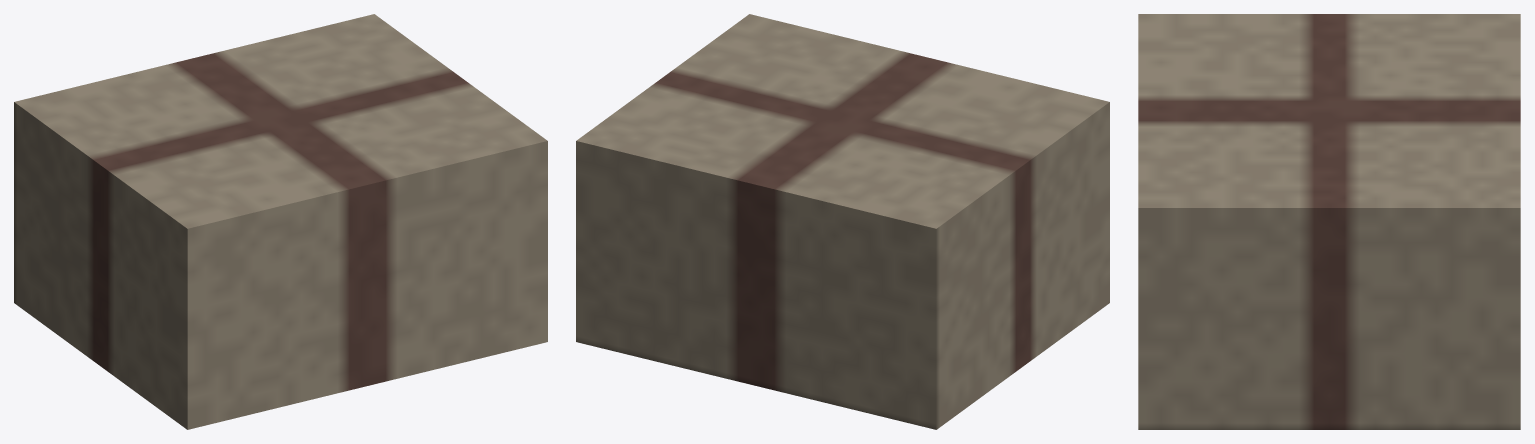
The model's file is paczka_big.dae.
The picture shows the model from 3 angles, left to right: view 1: azimuth 30°, elevation 25°; view 2: azimuth 150°, elevation 25°; view 3: azimuth 270°, elevation 25°; orthographic projection. The views are drawn at different scales.
Visible parts, largest first — view 1: Content; view 2: Content; view 3: Content.
Part boxes in pixels (x1=…): Content: x1=14, y1=14, x2=547, y2=429; Content: x1=576, y1=14, x2=1109, y2=429; Content: x1=1138, y1=14, x2=1520, y2=429.
Size of the model in its own units: 30 by 16 by 25.
Materials: 1 (1 with a texture image).
